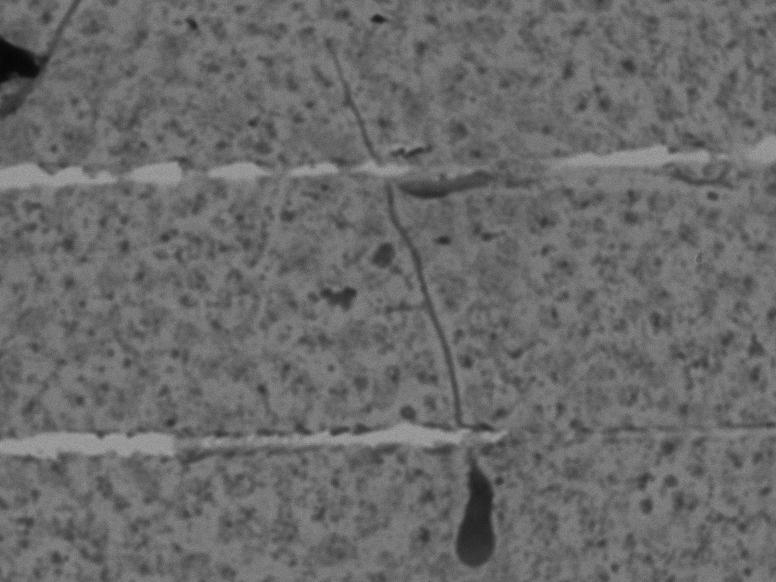Abnormal: (298, 28, 528, 569)
